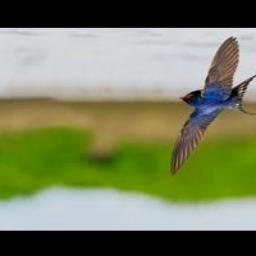Swallow: (172, 37, 256, 178)
